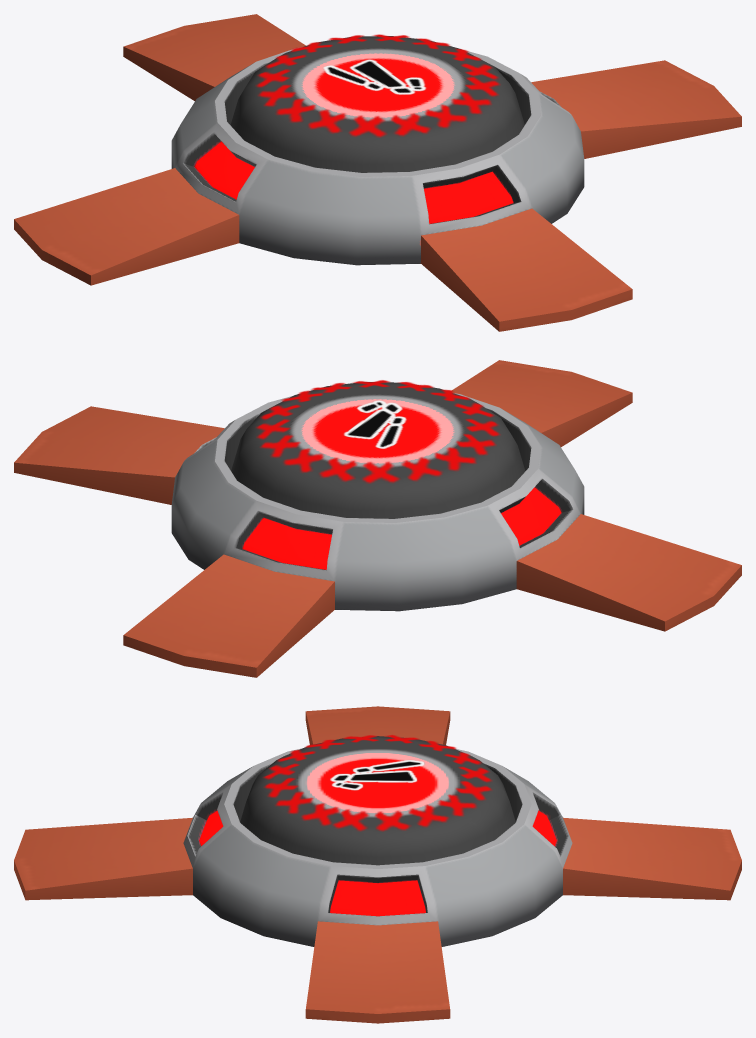
Rendered from Mine2.glb.
3 views of the same model, one above another, from view 1: azimuth 30°, elevation 25°; view 2: azimuth 150°, elevation 25°; view 3: azimuth 270°, elevation 25° (orthographic). The views are drawn at different scales.
Parts seen in each view (by area): view 1: Mine, Mine.001; view 2: Mine, Mine.001; view 3: Mine, Mine.001.
Part boxes in pixels (x1,y1,x2,y2): Mine: [14, 14, 741, 331]; Mine.001: [256, 34, 500, 137]; Mine: [14, 360, 741, 677]; Mine.001: [256, 380, 500, 483]; Mine: [14, 706, 741, 1023]; Mine.001: [263, 735, 492, 831].
Size of the model in its own units: 0.9622 by 0.1372 by 0.9622.
Materials: 2 (2 with a texture image).
